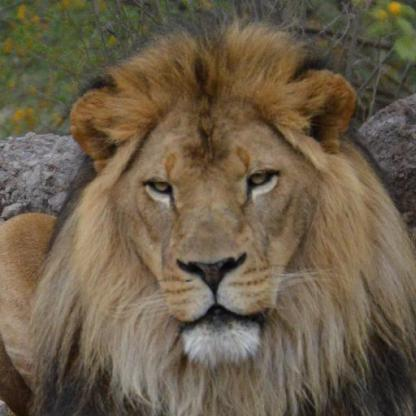lion: (69, 77, 388, 355)
